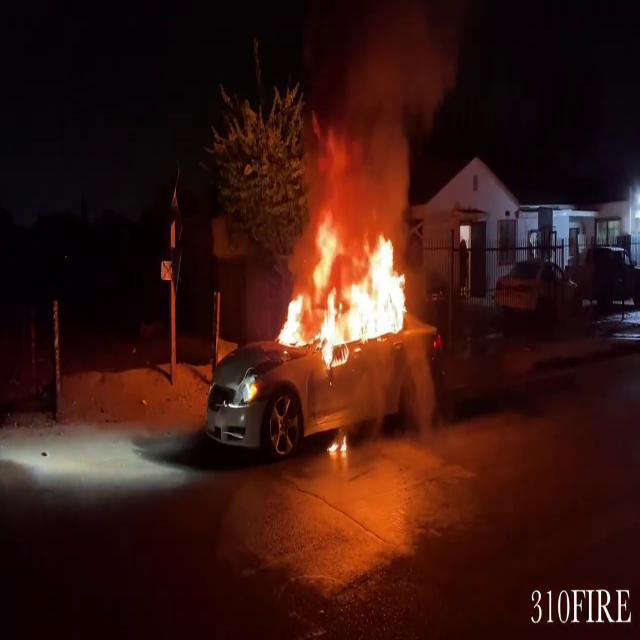Fire: (272, 212, 416, 362), (326, 427, 349, 462)
Smoke: (304, 2, 461, 222)
